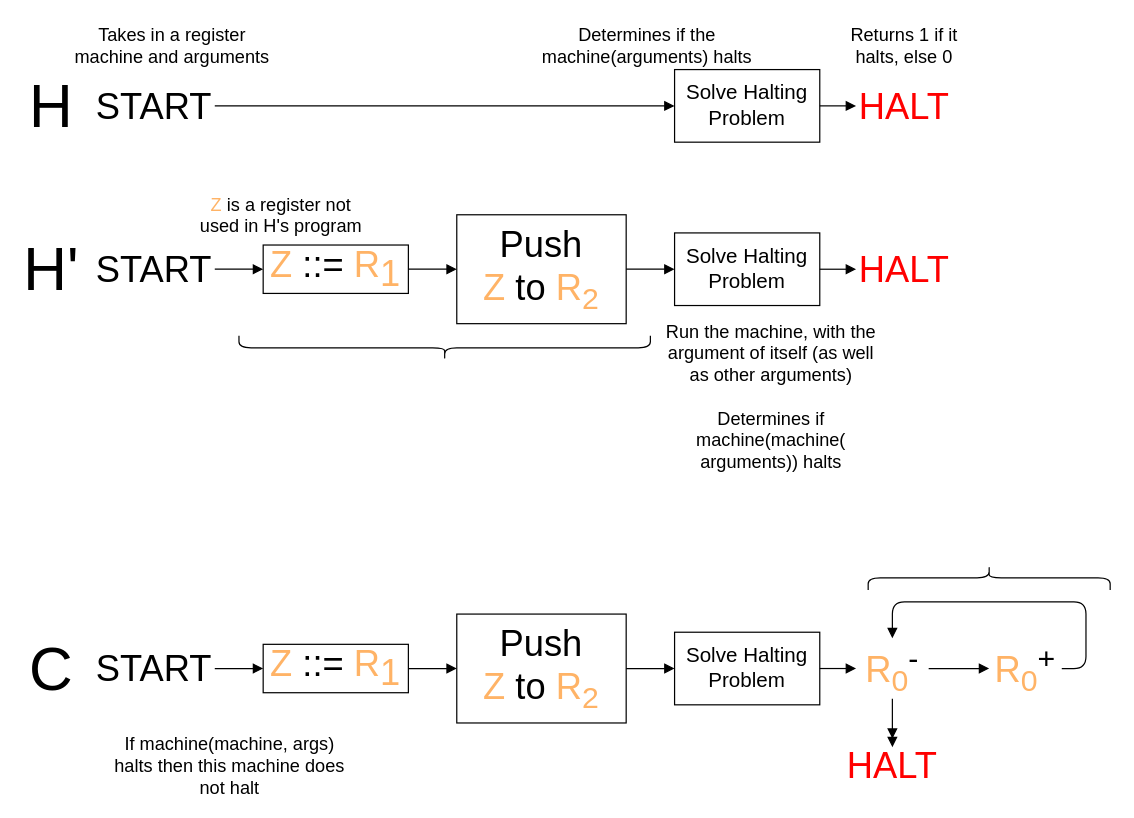
Image size: 1134x818. Some labels were removed from this diagram. Each missing label, with the centre of its shape:
"If R 0 is 1 this becomes an infinite loop - does not halt" belongs at point (988, 577).
"Place register machine at front of argument list" belongs at point (444, 347).
